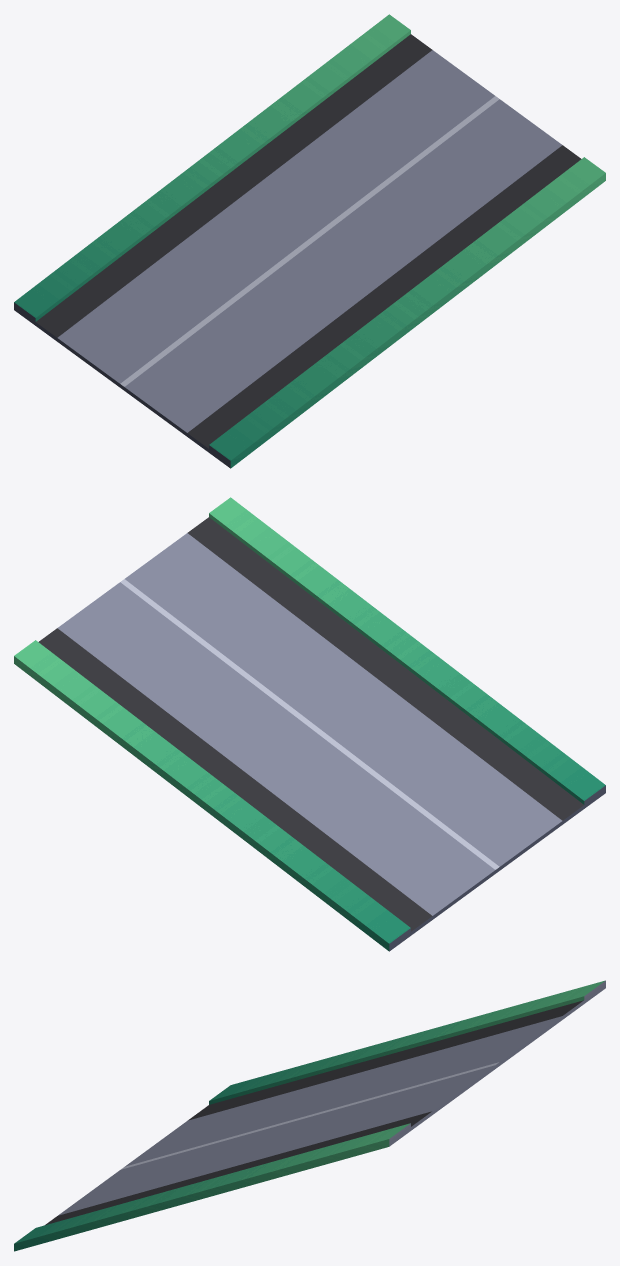
File: road_slant_flat_high.glb
3 renders of one model, top to bottom at view 1: azimuth 30°, elevation 25°; view 2: azimuth 150°, elevation 25°; view 3: azimuth 330°, elevation 25°, orthographic.
Parts seen in each view (by area): view 1: road-slant-flat-high; view 2: road-slant-flat-high; view 3: road-slant-flat-high.
Part boxes in pixels (left/top/right/bottom): road-slant-flat-high: left=14, top=14, right=605, bottom=468; road-slant-flat-high: left=14, top=497, right=605, bottom=951; road-slant-flat-high: left=14, top=980, right=605, bottom=1251.
Bounding box in the file's own units: 1 × 0.52 × 1.
Materials: 1 (1 with a texture image).
